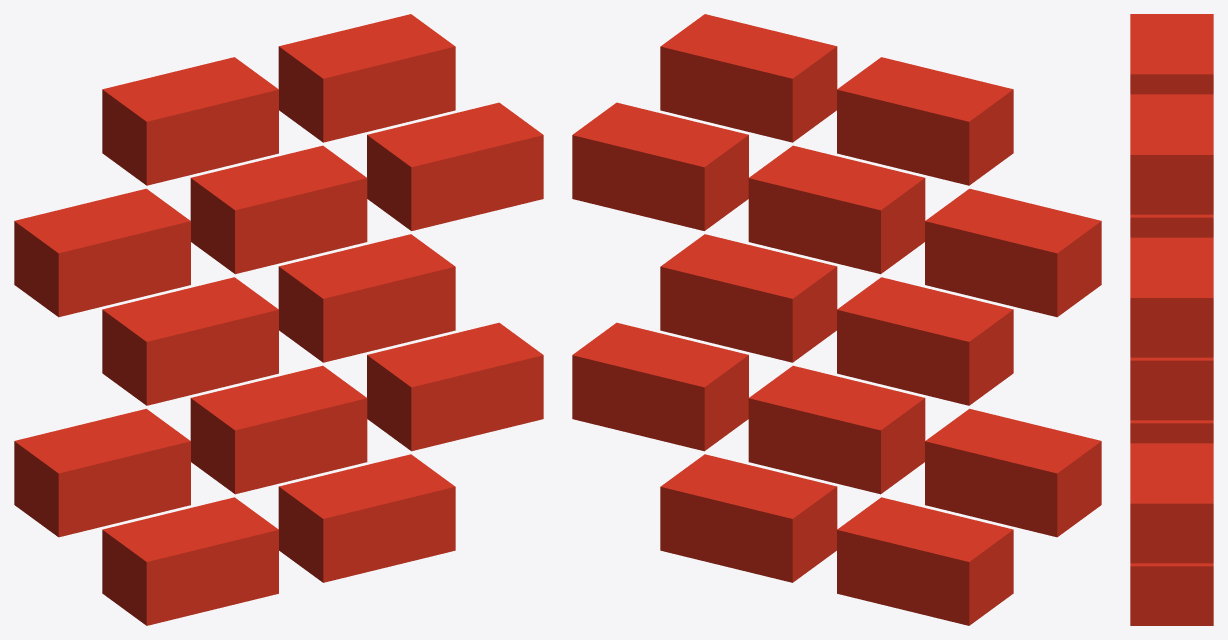
The model's file is Icon_Bricks.fbx.
3 renders of one model, left to right at view 1: azimuth 30°, elevation 25°; view 2: azimuth 150°, elevation 25°; view 3: azimuth 270°, elevation 25°, orthographic. The views are drawn at different scales.
Visible parts, largest first — view 1: Icon_Bricks; view 2: Icon_Bricks; view 3: Icon_Bricks.
Boxes of the visible parts, <box> form: Icon_Bricks: <box>14,14,543,625</box>; Icon_Bricks: <box>572,14,1101,625</box>; Icon_Bricks: <box>1130,14,1213,625</box>.
Size of the model in its own units: 76.03 by 75.49 by 12.06.
